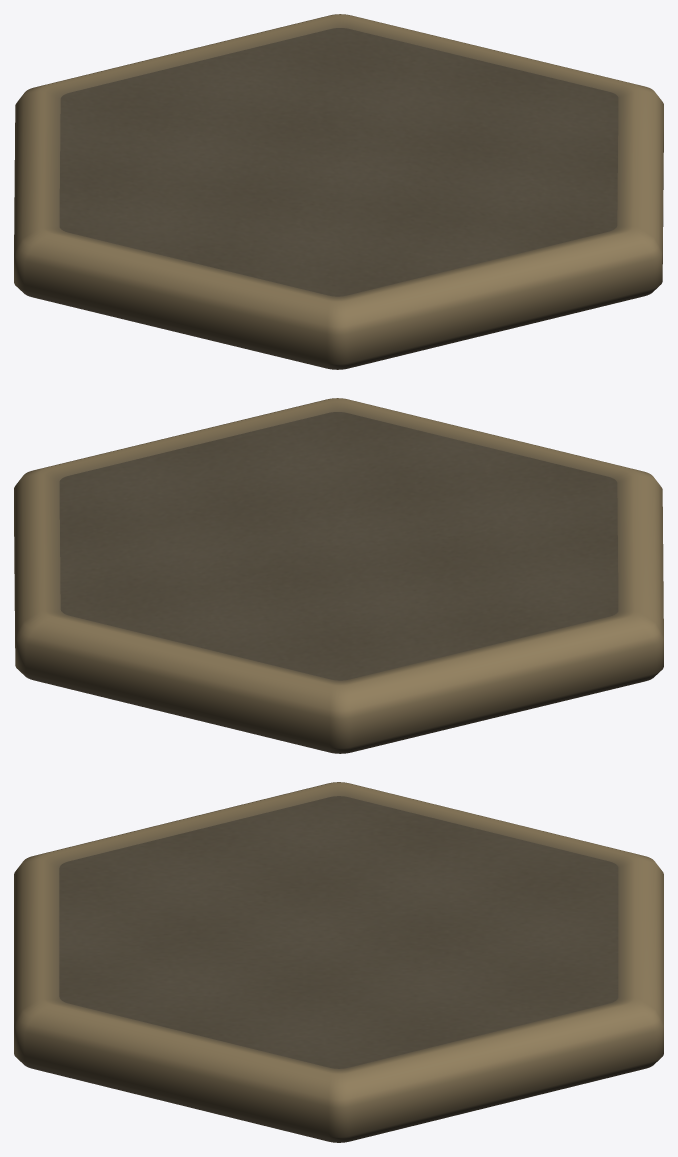
Rendered from HexFloor_Soil.fbx.
3 renders of one model, top to bottom at view 1: azimuth 30°, elevation 25°; view 2: azimuth 150°, elevation 25°; view 3: azimuth 270°, elevation 25°, orthographic.
Parts seen in each view (by area): view 1: HexFloor_Soil; view 2: HexFloor_Soil; view 3: HexFloor_Soil.
Boxes of the visible parts, box(x1,y1,x2,y2) form: HexFloor_Soil: box(14, 14, 663, 369); HexFloor_Soil: box(14, 398, 663, 753); HexFloor_Soil: box(14, 782, 663, 1142).
Size of the model in its own units: 1 by 0.095 by 0.866.
Materials: 1 (1 with a texture image).
